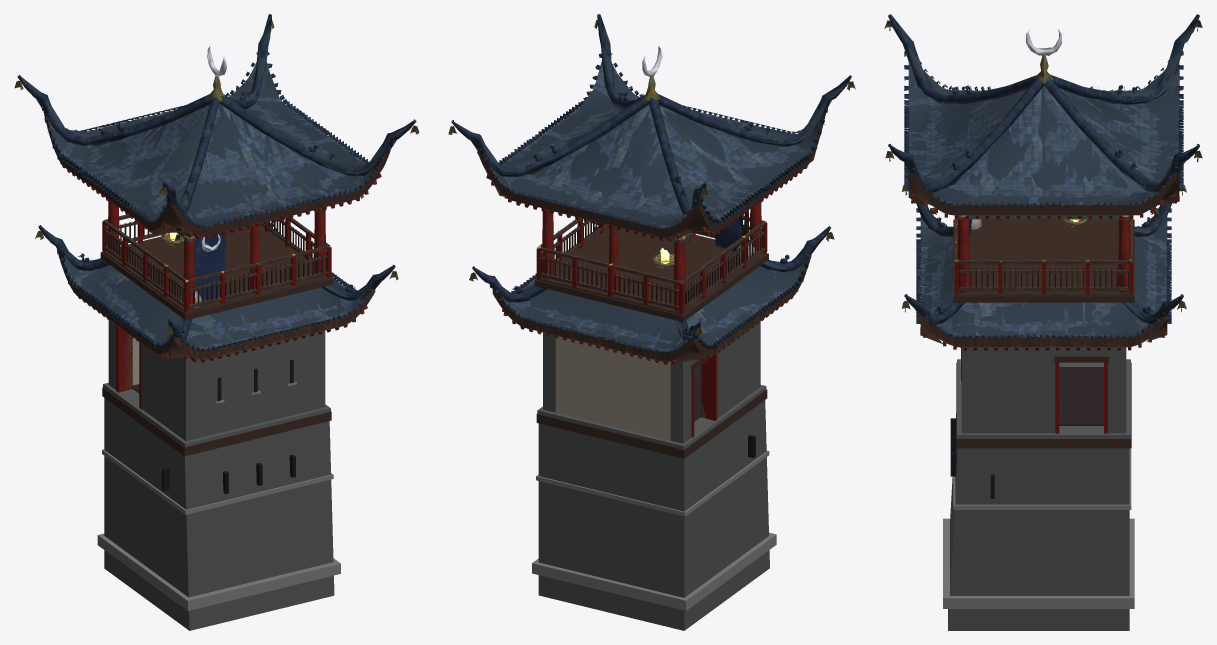
The model's file is fort_watchtower.gltf.
3 renders of one model, left to right at view 1: azimuth 30°, elevation 25°; view 2: azimuth 150°, elevation 25°; view 3: azimuth 270°, elevation 25°, orthographic. The views are drawn at different scales.
Parts seen in each view (by area): view 1: Far, Near; view 2: Far, Near; view 3: Far, Near.
Boxes of the visible parts, left/top/right/bottom form: Far: left=18, top=14, right=418, bottom=630; Near: left=14, top=14, right=419, bottom=404; Far: left=448, top=14, right=851, bottom=630; Near: left=448, top=14, right=855, bottom=421; Far: left=888, top=16, right=1199, bottom=630; Near: left=884, top=14, right=1202, bottom=425.
Bounding box in the file's own units: 9.33 × 18.19 × 9.3.
Materials: 24 (15 with a texture image).
